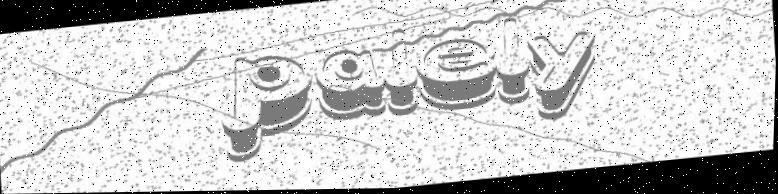a: (311, 41, 392, 124)
e: (415, 33, 501, 114)
l: (490, 16, 536, 108), (380, 25, 424, 118)
p: (214, 46, 321, 164)
y: (523, 27, 604, 123)
